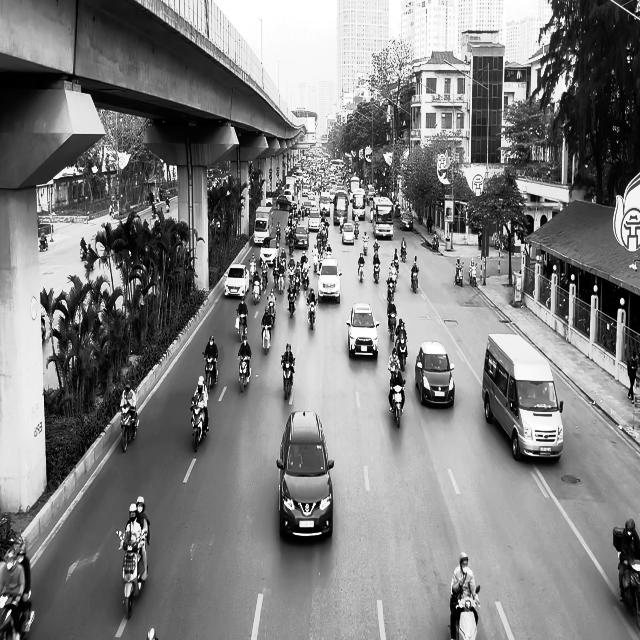bus: (482, 332, 564, 461), (373, 196, 394, 240), (254, 206, 274, 244)
car: (276, 410, 335, 539), (415, 340, 455, 408), (346, 302, 380, 359), (318, 258, 342, 303), (224, 264, 250, 298), (260, 236, 279, 265), (294, 225, 309, 249), (342, 222, 355, 244), (400, 212, 414, 230)
motorbike: (117, 528, 148, 618), (449, 585, 481, 639), (618, 551, 640, 627), (1, 592, 36, 639), (190, 398, 209, 452), (120, 405, 140, 452), (390, 379, 406, 428), (282, 357, 296, 401), (203, 352, 218, 392), (238, 354, 251, 392), (261, 320, 273, 354), (397, 336, 408, 370), (307, 297, 318, 329), (237, 313, 248, 342), (288, 286, 297, 318), (388, 313, 397, 342), (387, 275, 397, 300), (454, 263, 464, 286), (412, 268, 419, 294), (374, 258, 381, 284), (469, 265, 477, 287), (358, 259, 365, 282), (401, 246, 406, 262)
